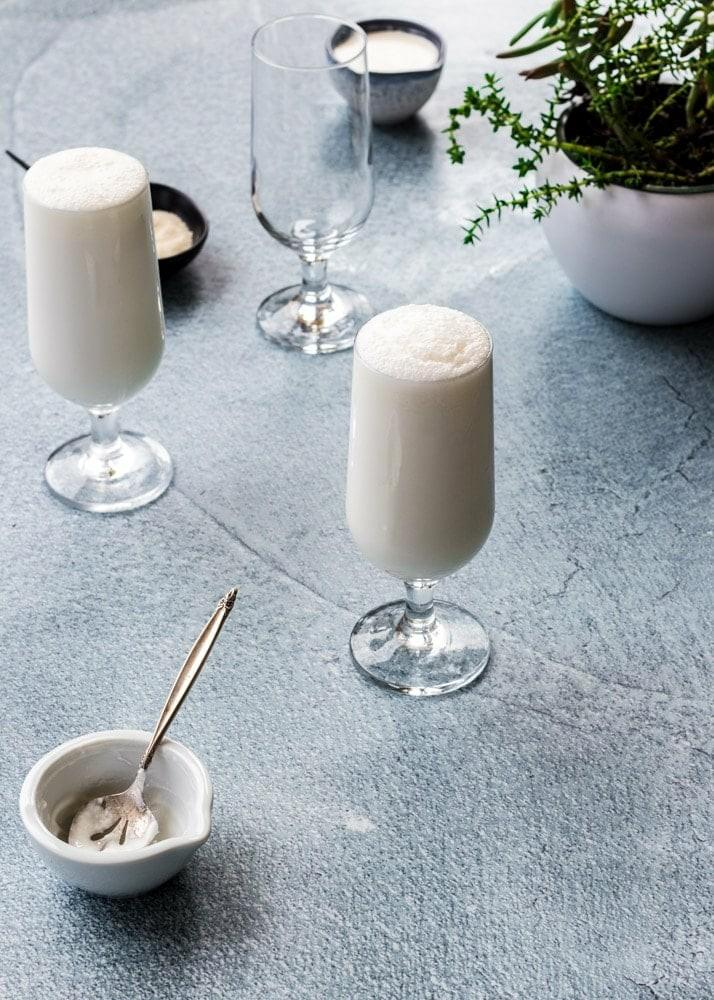Lassi: (344, 304, 497, 579), (22, 146, 168, 407)
